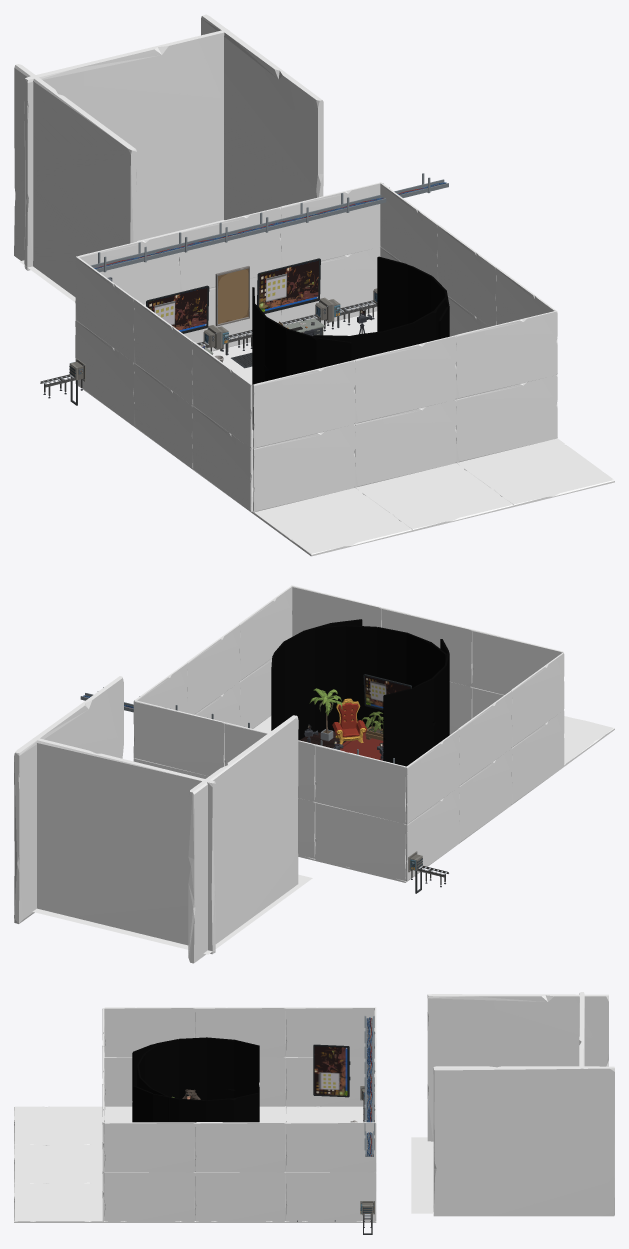
File: room.glb
The picture shows the model from 3 angles, top to bottom: view 1: azimuth 30°, elevation 25°; view 2: azimuth 150°, elevation 25°; view 3: azimuth 270°, elevation 25°; orthographic projection. The views are drawn at different scales.
Visible parts, largest first — view 1: SM_Buildings_Wall_5x3_01P (9) (×2), SM_Buildings_Wall_5x3_01P (11) (×2), SM_Buildings_Wall_5x3_01P (10) (×2), SM_Buildings_Wall_5x3_01P (3) (×3), SM_Buildings_Wall_5x3_01P (5) (×3), SM_Buildings_Wall_5x3_01P (4) (×3), SM_Buildings_Wall_5x3_01P (2) (×2), SM_Buildings_Wall_5x3_01P (8), SM_Buildings_Wall_5x3_01P (7), SM_Buildings_Wall_5x3_01P (6), SM_Buildings_Floor_5x5_01P (10), SM_Buildings_Wall_5x3_01P (×3) (+14 smaller); view 2: SM_Buildings_Wall_5x3_01P (9) (×2), SM_Buildings_Wall_5x3_01P (11), SM_Buildings_Wall_5x3_01P (5) (×3), SM_Buildings_Wall_5x3_01P (10) (×2), SM_Buildings_Wall_5x3_01P (4) (×3), SM_Buildings_Wall_5x3_01P (3) (×3), SM_Buildings_Wall_5x3_01P (1) (×2), SM_Buildings_WallCurved_5x5_01P (1), SM_Buildings_Wall_5x3_01P (×3), SM_Buildings_Wall_5x3_01P (2) (×2), SM_Buildings_WallCurved_5x5_01P (6), SM_Buildings_Wall_5x3_01P (8) (+12 smaller); view 3: SM_Buildings_Wall_5x3_01P (10), SM_Buildings_Wall_5x3_01P (11), SM_Buildings_Wall_5x3_01P (5) (×2), SM_Buildings_Wall_5x3_01P (3) (×2), SM_Buildings_Wall_5x3_01P (4) (×2), SM_Buildings_Wall_5x3_01P (1) (×2), SM_Buildings_Wall_5x3_01P (2) (×2), SM_Buildings_Wall_5x3_01P (×2), SM_Buildings_WallCurved_5x5_01P (6), SM_Buildings_Floor_5x5_01P (11), SM_Buildings_Floor_5x5_01P (9), SM_Buildings_Floor_5x5_01P (10) (+12 smaller).
Part boxes in pixels (x1=…): SM_Buildings_Wall_5x3_01P (9) (×2): x1=24, y1=29, x2=355, y2=448; SM_Buildings_Wall_5x3_01P (11) (×2): x1=14, y1=64, x2=557, y2=462; SM_Buildings_Wall_5x3_01P (10) (×2): x1=201, y1=14, x2=557, y2=399; SM_Buildings_Wall_5x3_01P (3) (×3): x1=134, y1=207, x2=497, y2=405; SM_Buildings_Wall_5x3_01P (5) (×3): x1=192, y1=182, x2=555, y2=448; SM_Buildings_Wall_5x3_01P (4) (×3): x1=75, y1=182, x2=438, y2=362; SM_Buildings_Wall_5x3_01P (2) (×2): x1=192, y1=247, x2=380, y2=511; SM_Buildings_Wall_5x3_01P (8): x1=354, y1=335, x2=456, y2=423; SM_Buildings_Wall_5x3_01P (7): x1=253, y1=424, x2=355, y2=512; SM_Buildings_Wall_5x3_01P (6): x1=354, y1=399, x2=456, y2=487; SM_Buildings_Floor_5x5_01P (10): x1=253, y1=487, x2=412, y2=556; SM_Buildings_Wall_5x3_01P (×3): x1=134, y1=277, x2=488, y2=468; SM_Buildings_Wall_5x3_01P (9) (×2): x1=32, y1=629, x2=563, y2=954; SM_Buildings_Wall_5x3_01P (11): x1=188, y1=715, x2=298, y2=963; SM_Buildings_Wall_5x3_01P (5) (×3): x1=133, y1=586, x2=564, y2=775; SM_Buildings_Wall_5x3_01P (10) (×2): x1=14, y1=585, x2=381, y2=923; SM_Buildings_Wall_5x3_01P (4) (×3): x1=133, y1=662, x2=459, y2=824; SM_Buildings_Wall_5x3_01P (3) (×3): x1=186, y1=624, x2=511, y2=801; SM_Buildings_Wall_5x3_01P (1) (×2): x1=315, y1=787, x2=459, y2=881; SM_Buildings_WallCurved_5x5_01P (1): x1=314, y1=625, x2=446, y2=688; SM_Buildings_Wall_5x3_01P (×3): x1=195, y1=682, x2=511, y2=858; SM_Buildings_Wall_5x3_01P (2) (×2): x1=239, y1=658, x2=564, y2=804; SM_Buildings_WallCurved_5x5_01P (6): x1=383, y1=639, x2=449, y2=752; SM_Buildings_Wall_5x3_01P (8): x1=381, y1=607, x2=472, y2=686; SM_Buildings_Wall_5x3_01P (10): x1=433, y1=1066, x2=614, y2=1216; SM_Buildings_Wall_5x3_01P (11): x1=427, y1=994, x2=608, y2=1141; SM_Buildings_Wall_5x3_01P (5) (×2): x1=104, y1=1007, x2=195, y2=1172; SM_Buildings_Wall_5x3_01P (3) (×2): x1=195, y1=1007, x2=285, y2=1172; SM_Buildings_Wall_5x3_01P (4) (×2): x1=286, y1=1007, x2=376, y2=1172; SM_Buildings_Wall_5x3_01P (1) (×2): x1=286, y1=1057, x2=376, y2=1221; SM_Buildings_Wall_5x3_01P (2) (×2): x1=104, y1=1057, x2=195, y2=1221; SM_Buildings_Wall_5x3_01P (×2): x1=195, y1=1057, x2=285, y2=1221; SM_Buildings_WallCurved_5x5_01P (6): x1=132, y1=1037, x2=259, y2=1100; SM_Buildings_Floor_5x5_01P (11): x1=14, y1=1183, x2=104, y2=1222; SM_Buildings_Floor_5x5_01P (9): x1=14, y1=1145, x2=102, y2=1183; SM_Buildings_Floor_5x5_01P (10): x1=14, y1=1106, x2=102, y2=1145.
Size of what is drawn, in the model's own units: 19.99 by 9.49 by 33.16.
9 materials, 6 textured.
